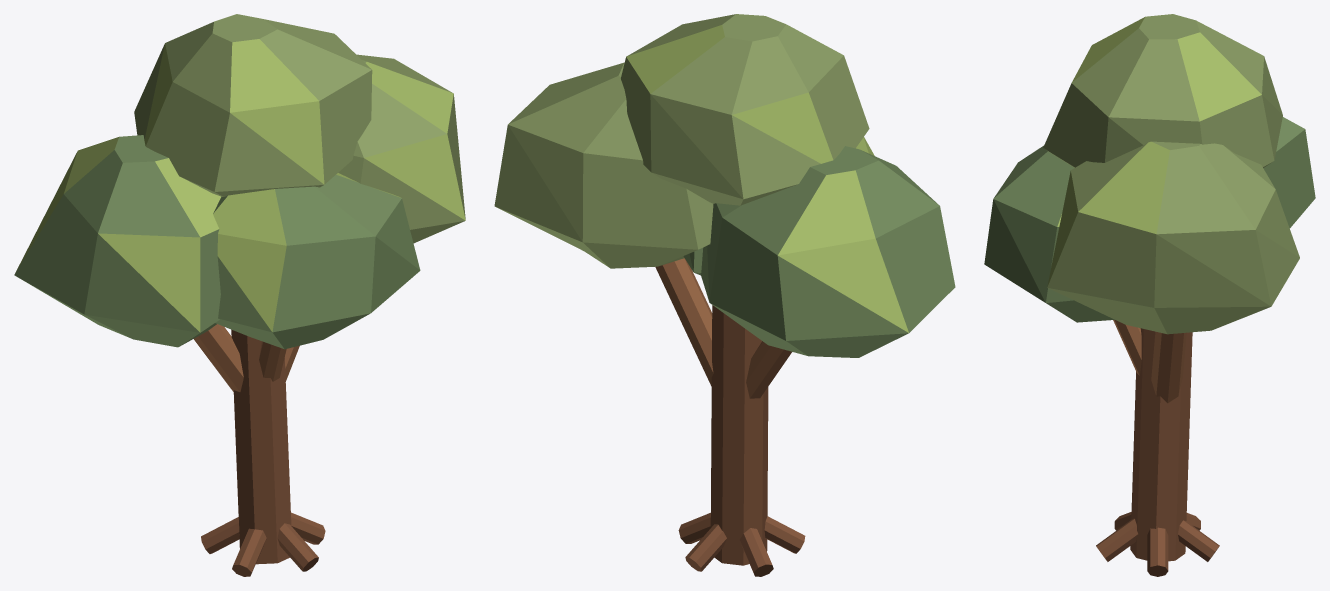
The model's file is tree_oak_v1530_02.glb.
3 renders of one model, left to right at view 1: azimuth 30°, elevation 25°; view 2: azimuth 150°, elevation 25°; view 3: azimuth 270°, elevation 25°, orthographic. The views are drawn at different scales.
Visible parts, largest first — view 1: tree_oak_v1530_02; view 2: tree_oak_v1530_02; view 3: tree_oak_v1530_02.
Boxes of the visible parts, left/top/right/bottom form: tree_oak_v1530_02: left=14, top=14, right=465, bottom=576; tree_oak_v1530_02: left=494, top=14, right=955, bottom=576; tree_oak_v1530_02: left=984, top=14, right=1315, bottom=576.
Size of the model in its own units: 1.91 by 2.43 by 1.41.
